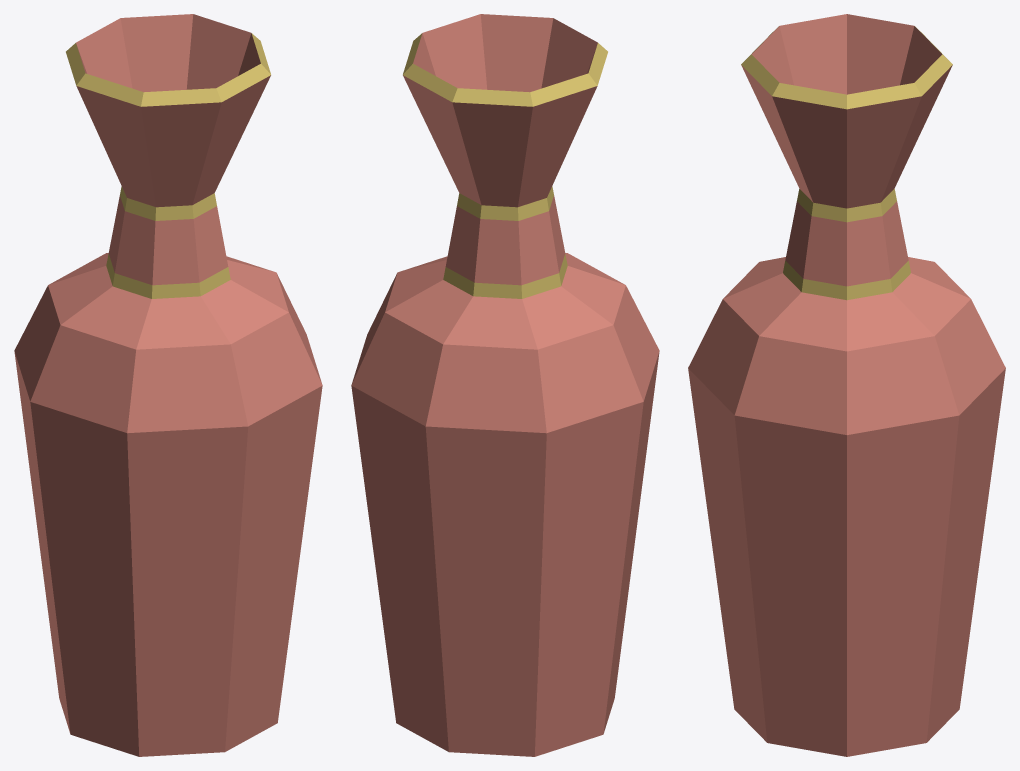
File: Vase4.fbx
The picture shows the model from 3 angles, left to right: view 1: azimuth 30°, elevation 25°; view 2: azimuth 150°, elevation 25°; view 3: azimuth 270°, elevation 25°; orthographic projection.
Parts seen in each view (by area): view 1: Cylinder; view 2: Cylinder; view 3: Cylinder.
Boxes of the visible parts, <box> form: Cylinder: <box>14,14,322,756</box>; Cylinder: <box>351,14,659,756</box>; Cylinder: <box>688,14,1005,756</box>.
Bounding box in the file's own units: 0.457 × 1.04 × 0.457.
